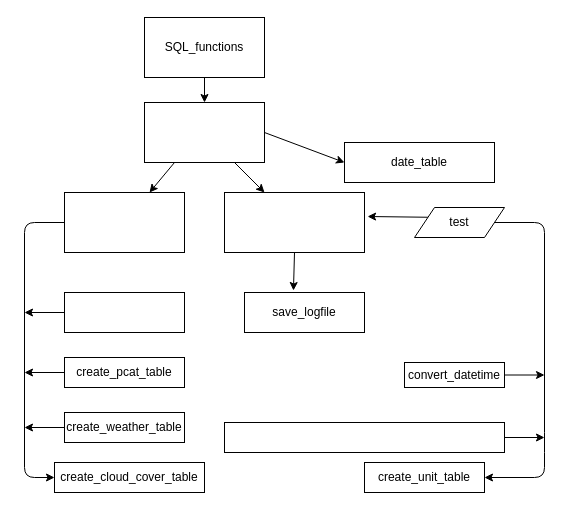
Some shapes in this 570 by 510 pixel diagram are drawn without their labels. Here are the shapes that lost their labels. From the top down, the centre of each, then its label:
At pixel 204 132: "write_sql".
At pixel 124 222: "initialize_db".
At pixel 294 222: "create_main_dataframe".
At pixel 124 312: "create_city_table".
At pixel 364 437: "remove_already_inserted_values_from_dataframe".
